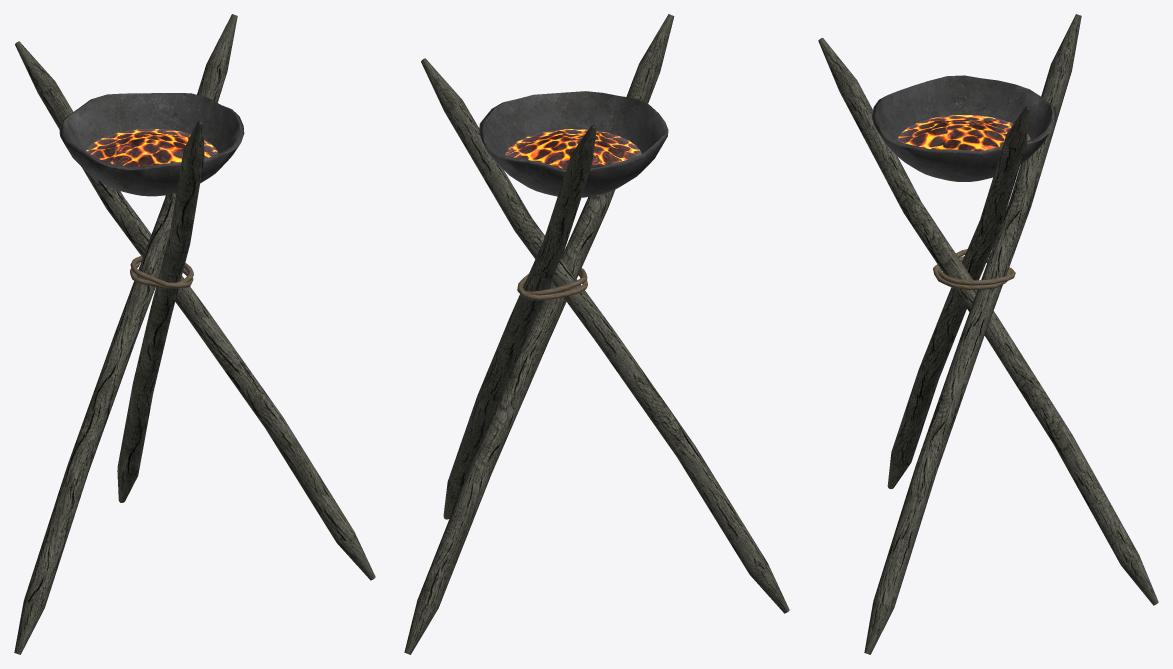
Rendered from primitive_brazier_free.glb.
The picture shows the model from 3 angles, left to right: view 1: azimuth 30°, elevation 25°; view 2: azimuth 150°, elevation 25°; view 3: azimuth 270°, elevation 25°; orthographic projection. The views are drawn at different scales.
Visible parts, largest first — view 1: PrimitiveBrazier; view 2: PrimitiveBrazier; view 3: PrimitiveBrazier.
Part boxes in pixels (x1=…): PrimitiveBrazier: x1=14, y1=14, x2=375, y2=654; PrimitiveBrazier: x1=404, y1=14, x2=789, y2=654; PrimitiveBrazier: x1=818, y1=14, x2=1158, y2=654.
Bounding box in the file's own units: 85.02 × 122 × 72.05.
Materials: 1 (1 with a texture image).
